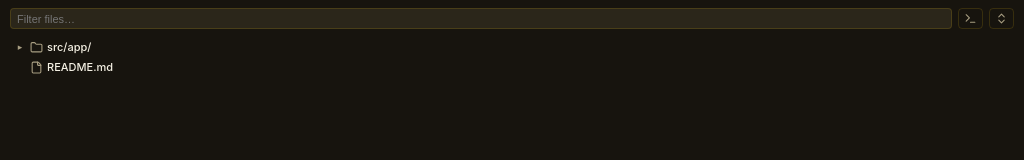
Scenario: FileTreePanel › an active filter forces folders open so matches show
The image size is (1024, 160).
Expected: the text "src/app/" is shown, x1=47 y1=40 x2=91 y2=54
Step 1. Type "util" into the field named "filter repo files" → (481, 18), box x1=10 y1=8 x2=952 y2=29
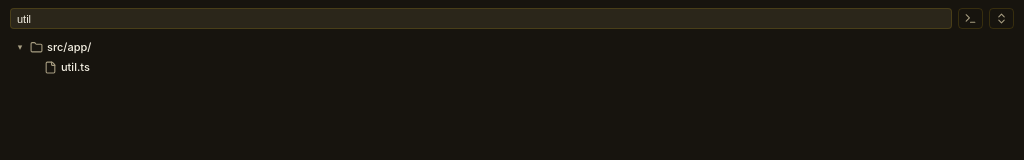
Expected: the button "util.ts" is shown, x1=61 y1=58 x2=1014 y2=76
